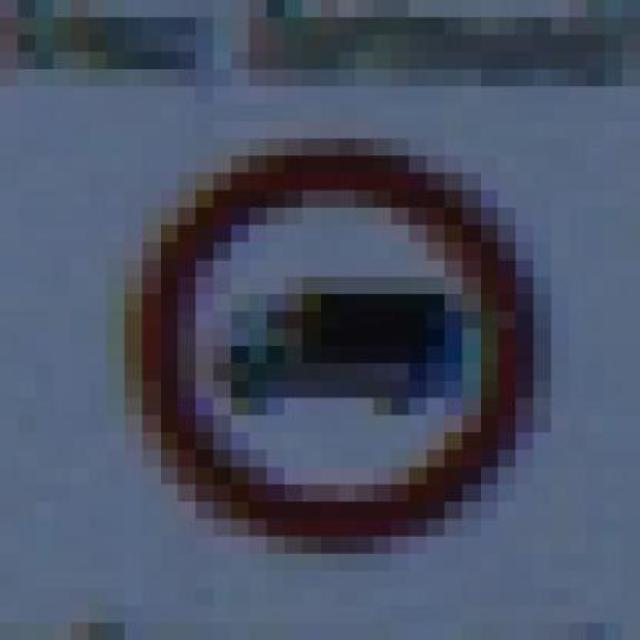Truck traffic is prohibited: (107, 128, 551, 560)
